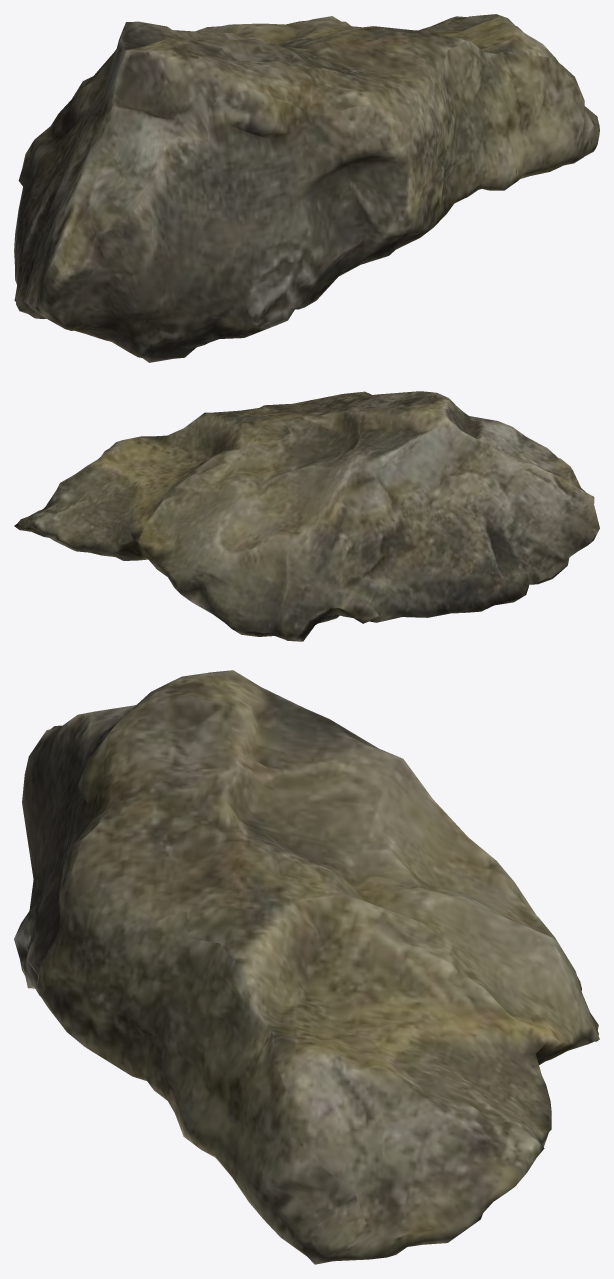
The model's file is SM_RockMoss_B03.gltf.
The picture shows the model from 3 angles, top to bottom: view 1: azimuth 30°, elevation 25°; view 2: azimuth 150°, elevation 25°; view 3: azimuth 270°, elevation 25°; orthographic projection. The views are drawn at different scales.
Parts seen in each view (by area): view 1: SM_RockMoss_B03; view 2: SM_RockMoss_B03; view 3: SM_RockMoss_B03.
Boxes of the visible parts, bbox=[...] form: SM_RockMoss_B03: bbox=[14, 14, 599, 362]; SM_RockMoss_B03: bbox=[14, 391, 599, 641]; SM_RockMoss_B03: bbox=[14, 670, 599, 1264].
Size of the model in its own units: 1.63 by 0.6086 by 1.01.
1 material, 1 textured.
